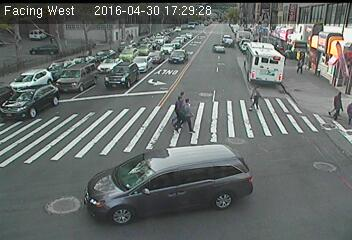neg: (129, 161, 151, 190), (140, 54, 157, 78), (253, 45, 270, 68)
pos: (244, 80, 266, 110), (292, 54, 312, 80)
